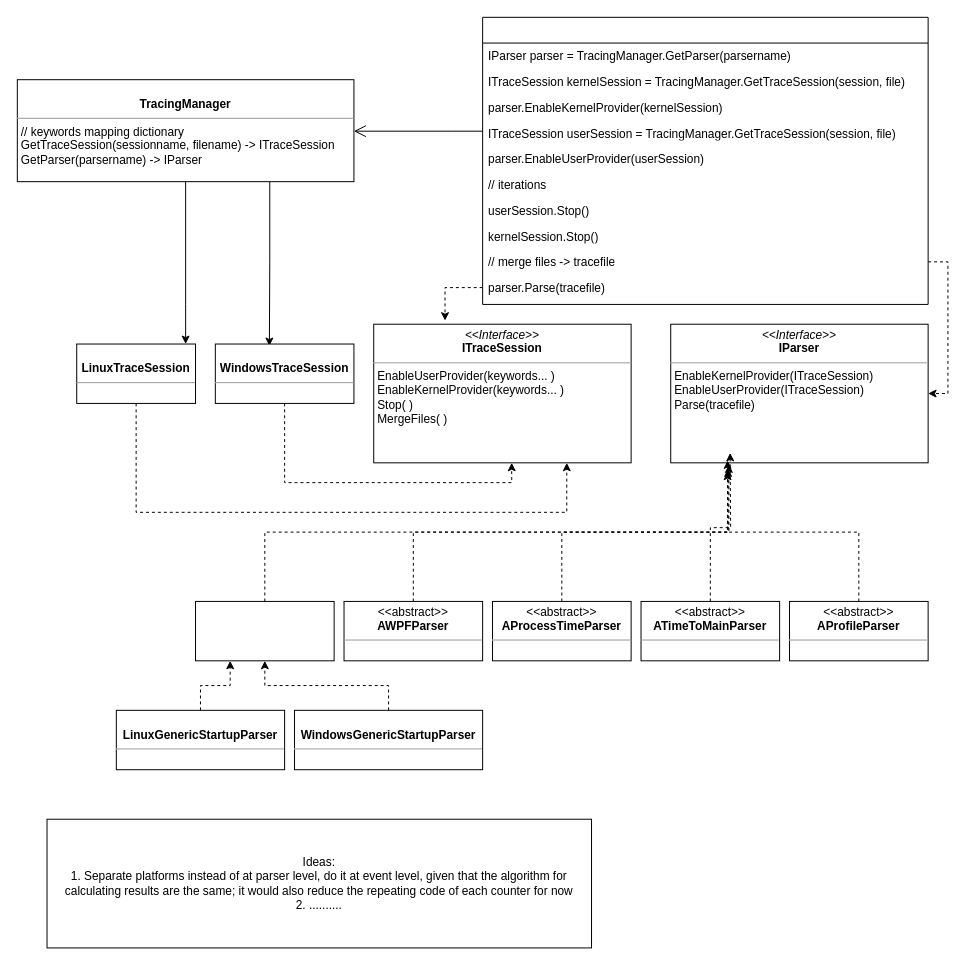
This 973x965 diagram has some shape labels left out. The shapes that lost their labels are listed below. From the top down, each one's box as (x1, y1, x2, y2) in pixels, then its label:
(482, 16, 928, 304): Startup.cs
(195, 600, 334, 661): <<abstract>> AGenericStartupParser
